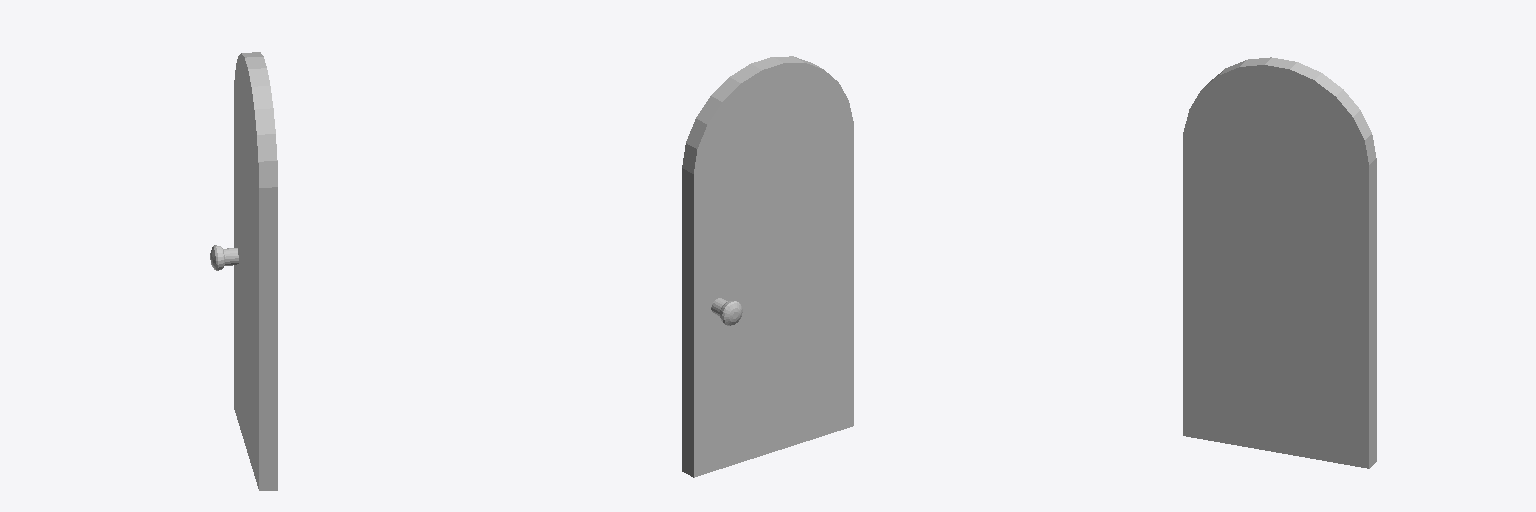
File: door.obj
The picture shows the model from 3 angles: view 1: azimuth 30°, elevation 25°; view 2: azimuth 150°, elevation 25°; view 3: azimuth 270°, elevation 25°; orthographic projection.
Visible parts, largest first — view 1: door door walls_grp roomGeo_grp; view 2: door door walls_grp roomGeo_grp; view 3: door door walls_grp roomGeo_grp.
Part boxes in pixels (x1,y1,x2,y2): door door walls_grp roomGeo_grp: (210, 52, 277, 490); door door walls_grp roomGeo_grp: (682, 56, 853, 477); door door walls_grp roomGeo_grp: (1183, 57, 1376, 468).
Size of the model in its own units: 116 by 516 by 234.